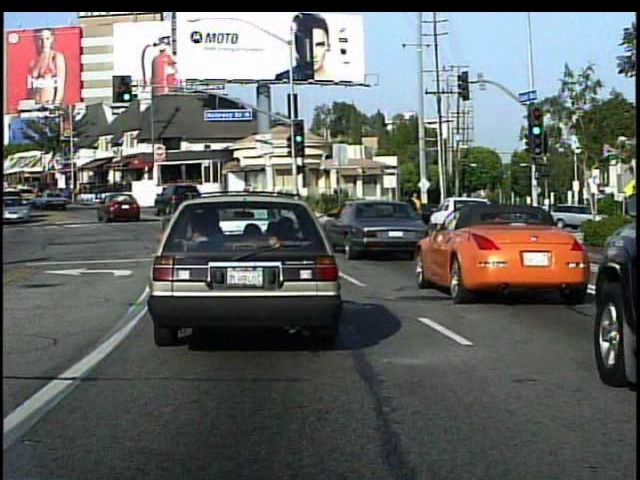person: (405, 189, 424, 229), (401, 192, 419, 231)
